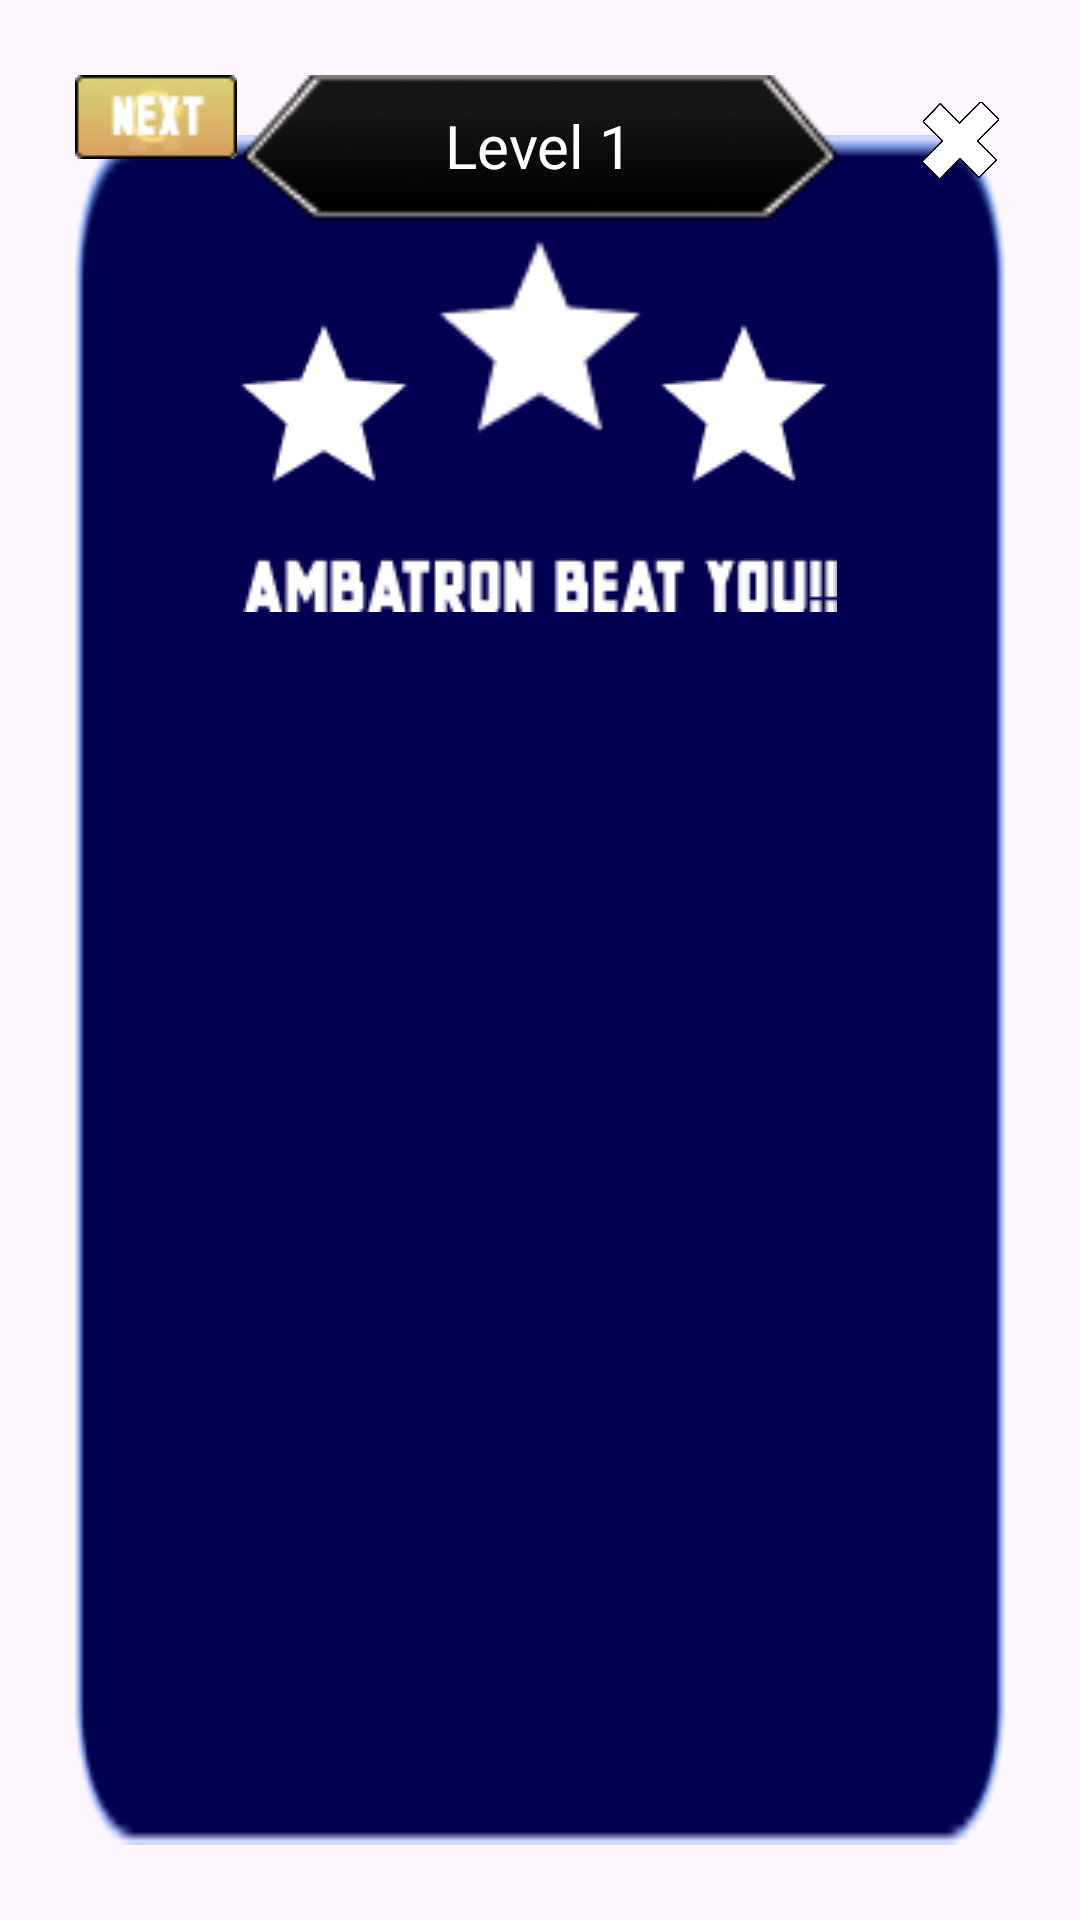

Point at icon controls on the screen. Image size 1080 x 1920, points as [x,y].
silang: [960,141]
